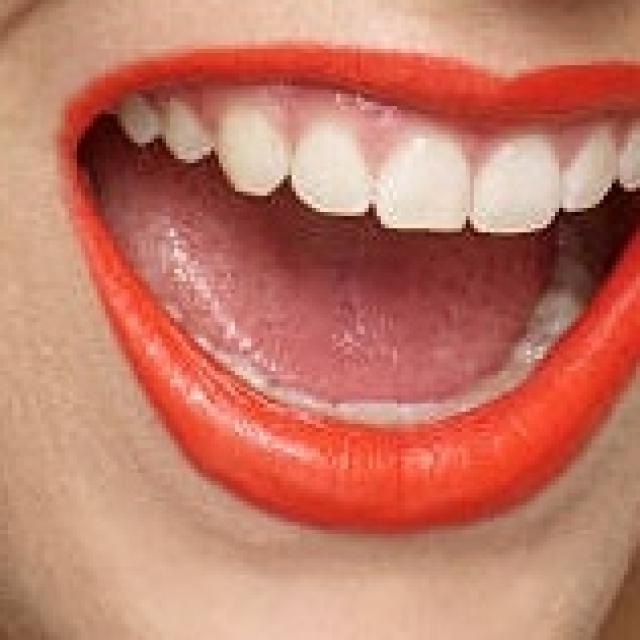open-mouth: (53, 37, 636, 534)
